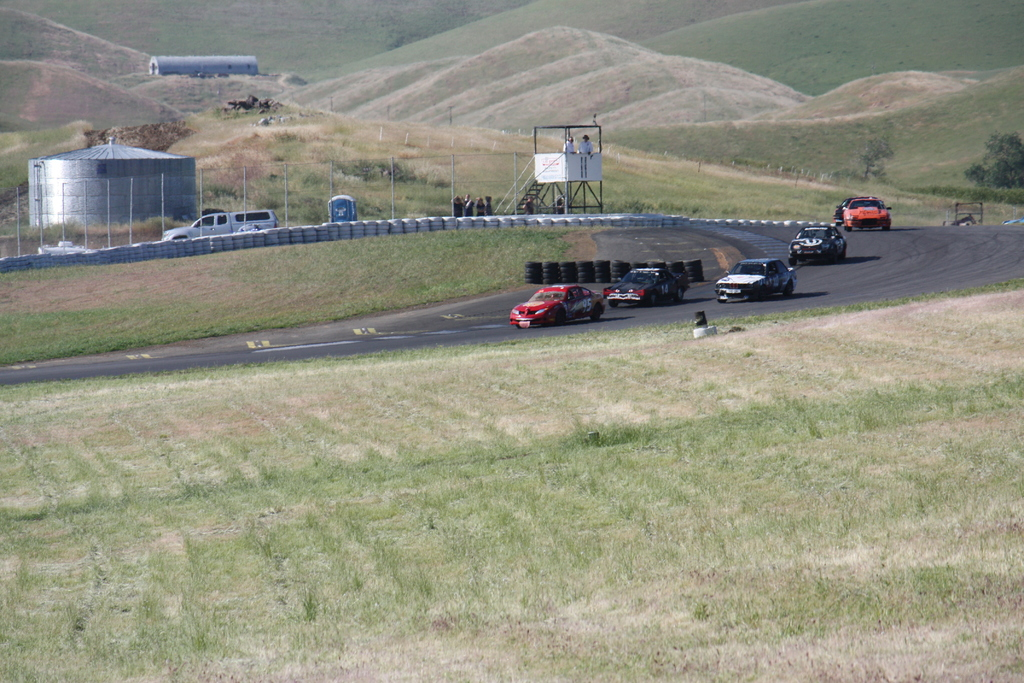Car: (511, 283, 602, 325), (713, 259, 794, 299), (606, 267, 692, 304), (787, 225, 847, 262), (840, 199, 892, 228), (832, 194, 853, 221)
